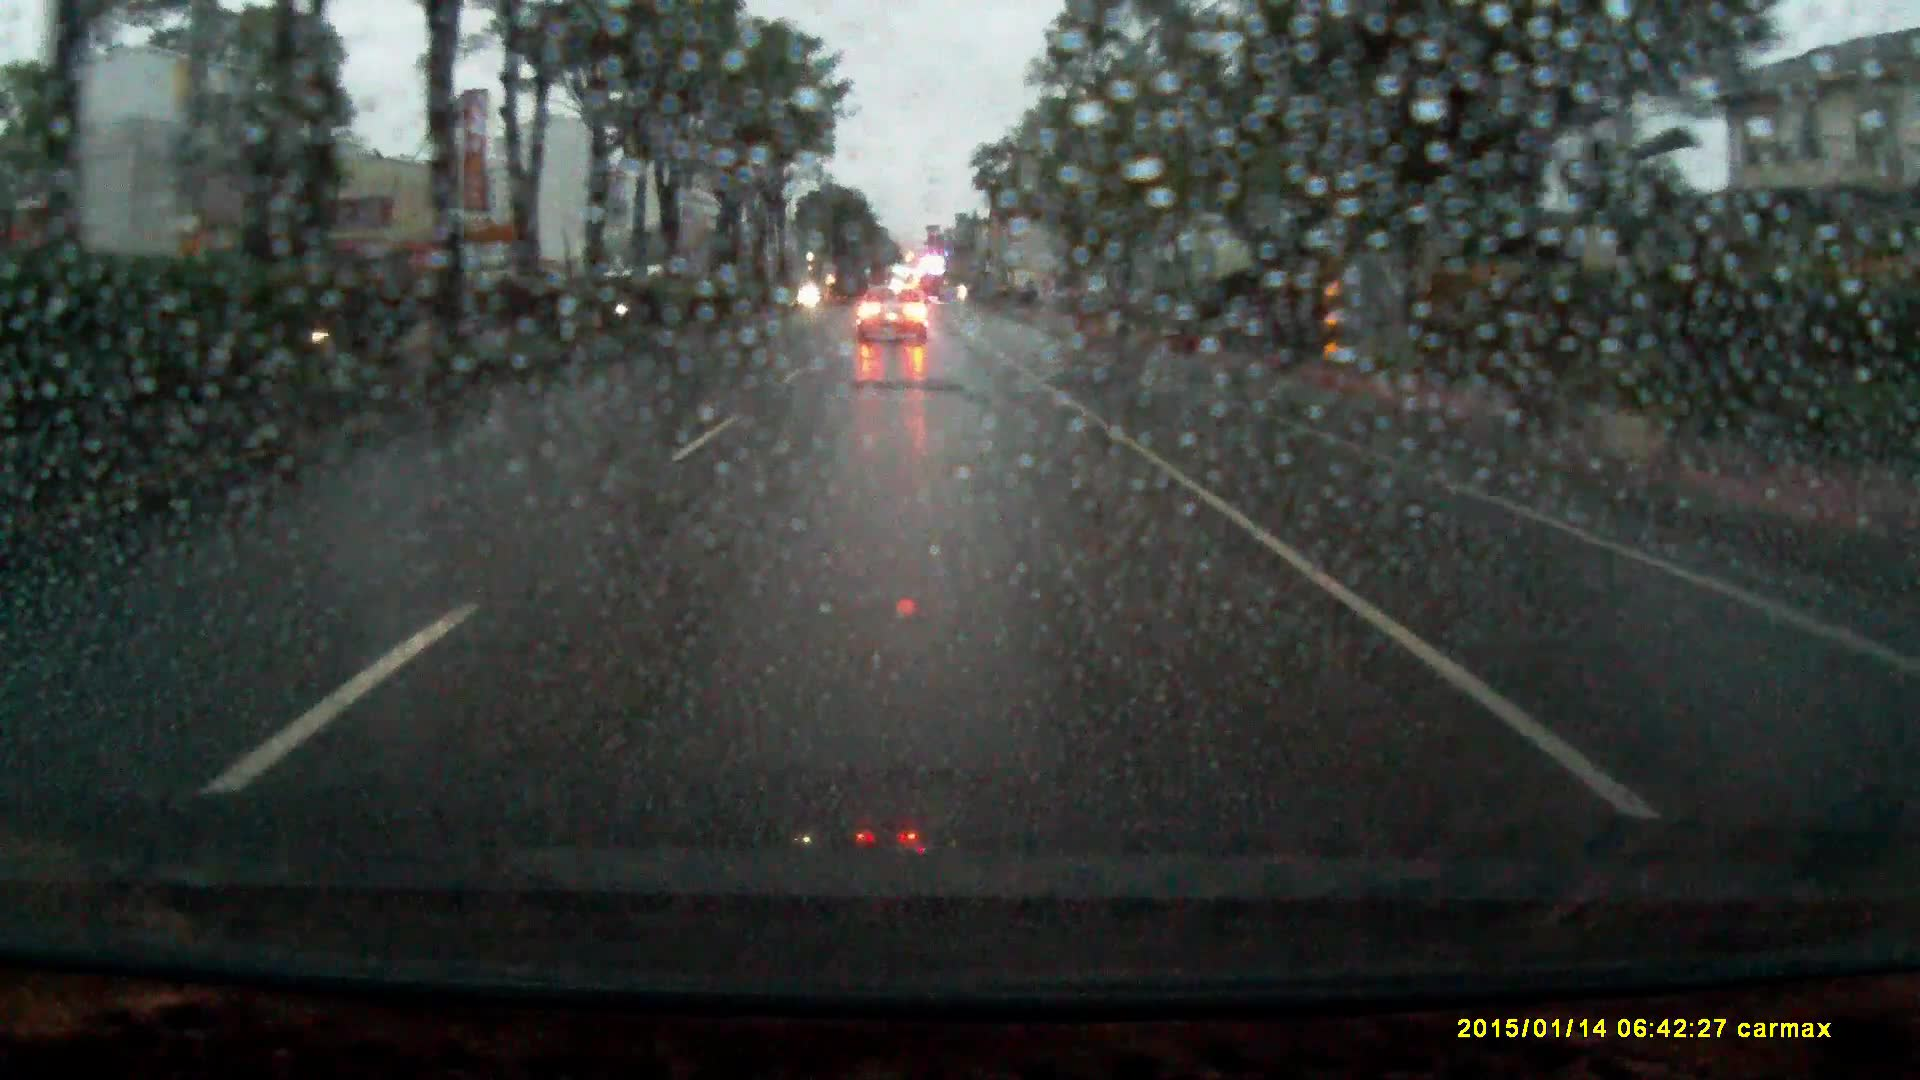vehicle: (857, 291, 928, 351)
